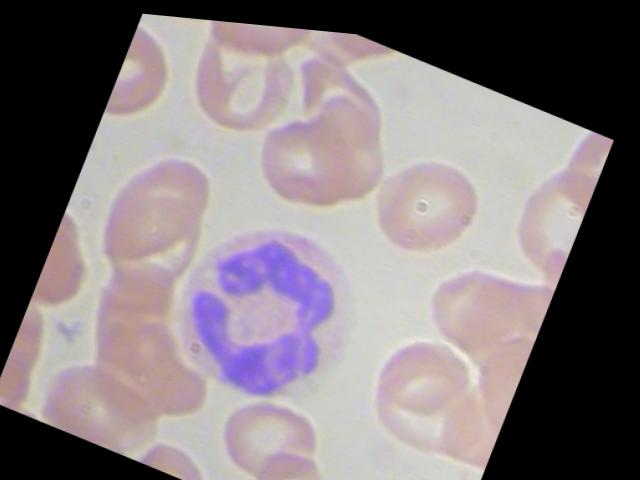Red Blood Cells: (83, 129, 232, 289), (357, 125, 495, 270), (173, 14, 306, 148), (36, 345, 171, 458), (243, 94, 362, 215), (416, 236, 535, 356), (211, 375, 341, 479), (374, 312, 486, 426), (197, 15, 314, 73), (247, 428, 362, 479), (138, 424, 233, 479), (311, 24, 413, 71)
White Blood Cells: (150, 183, 390, 427)
